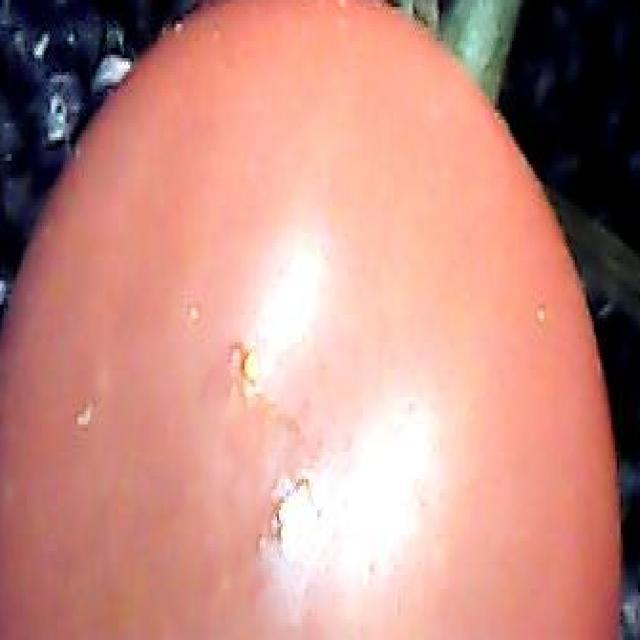Healthy: (17, 7, 636, 640)
